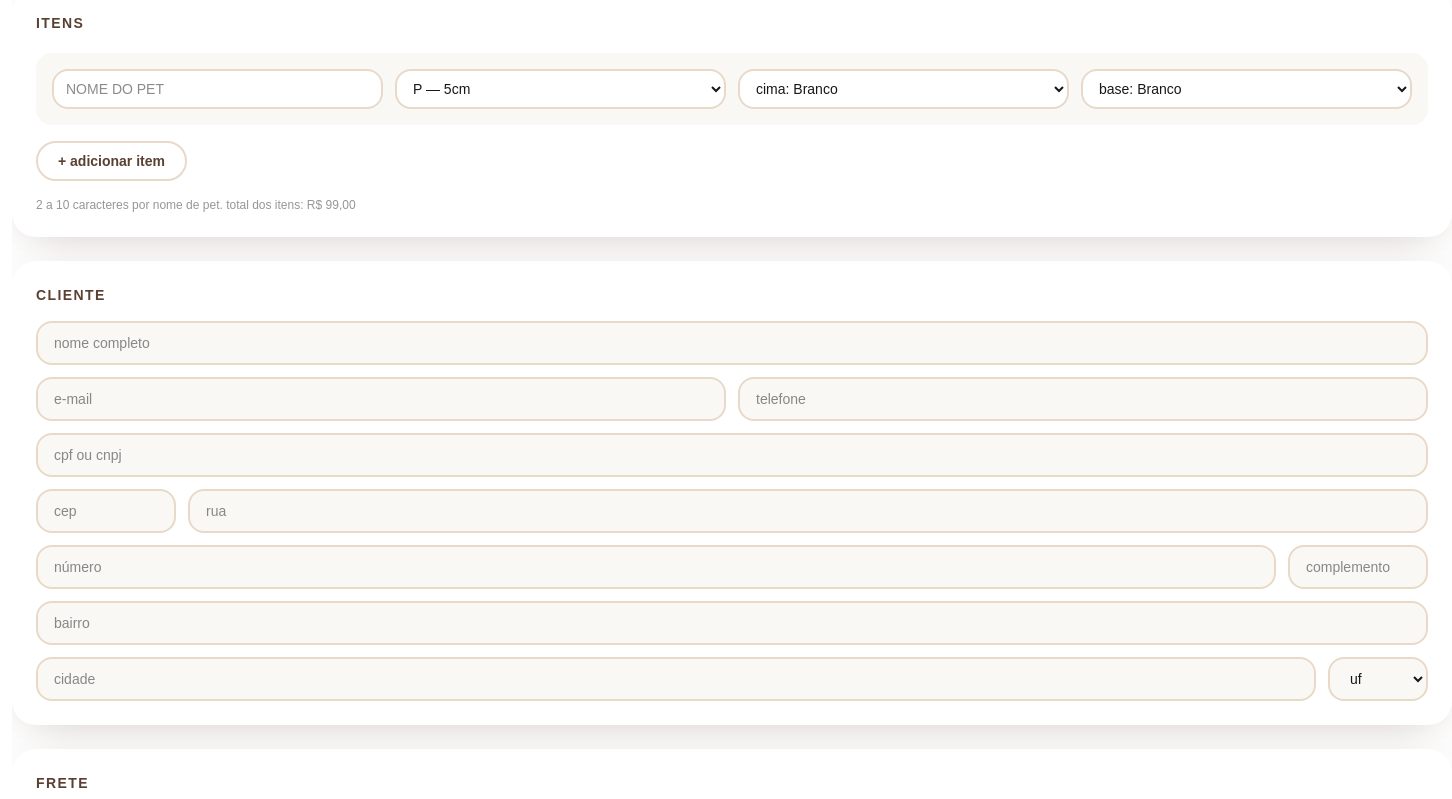
Test: NovoPedidoForm — submit › marcar como pago envia outcome=paid e mostra a confirmação
Type "thor" into the field with placeholder "nome do pet" at (218, 89), box [52, 69, 383, 109]
(page scrolled)
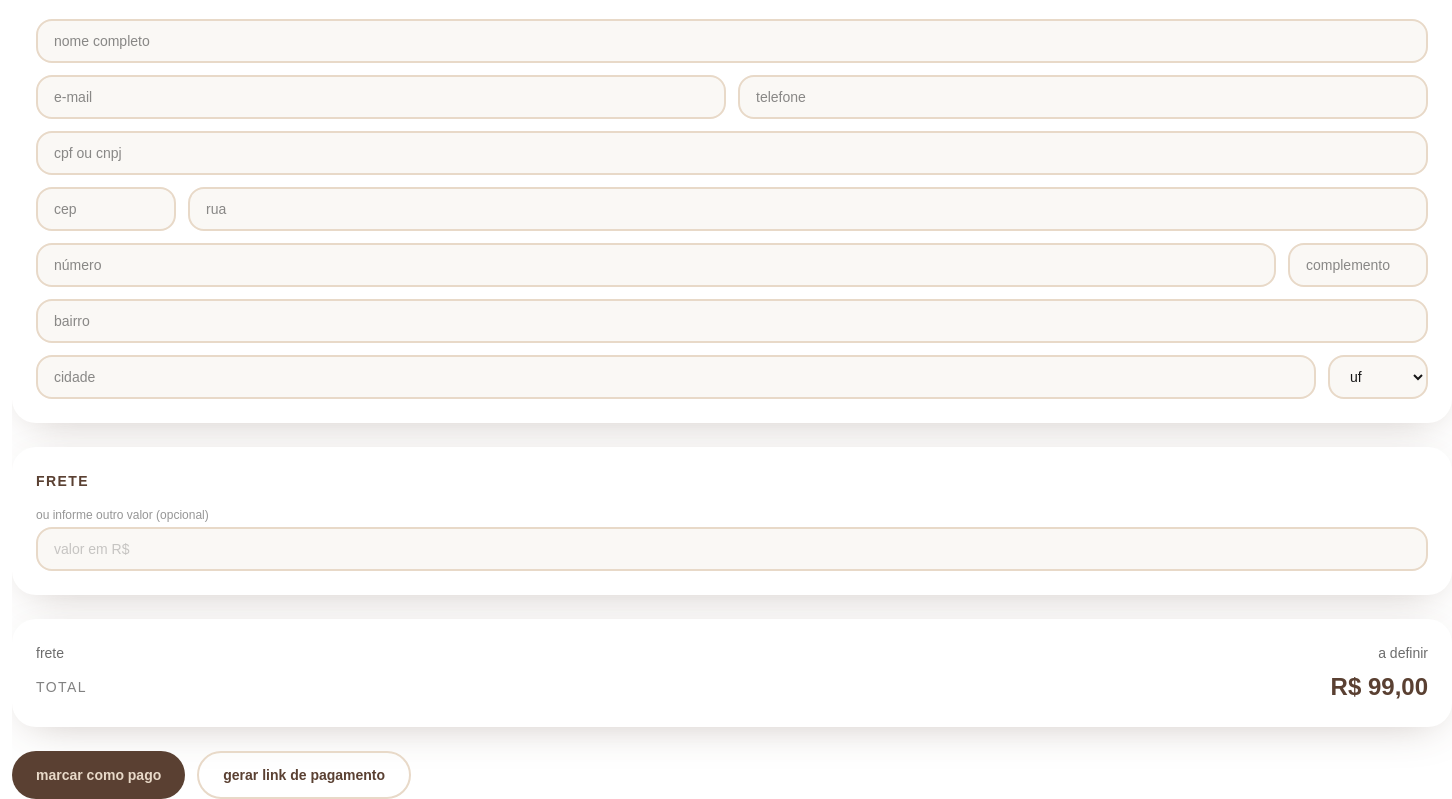
Click the button "marcar como pago" at (99, 775), box [12, 751, 185, 798]
(page scrolled)
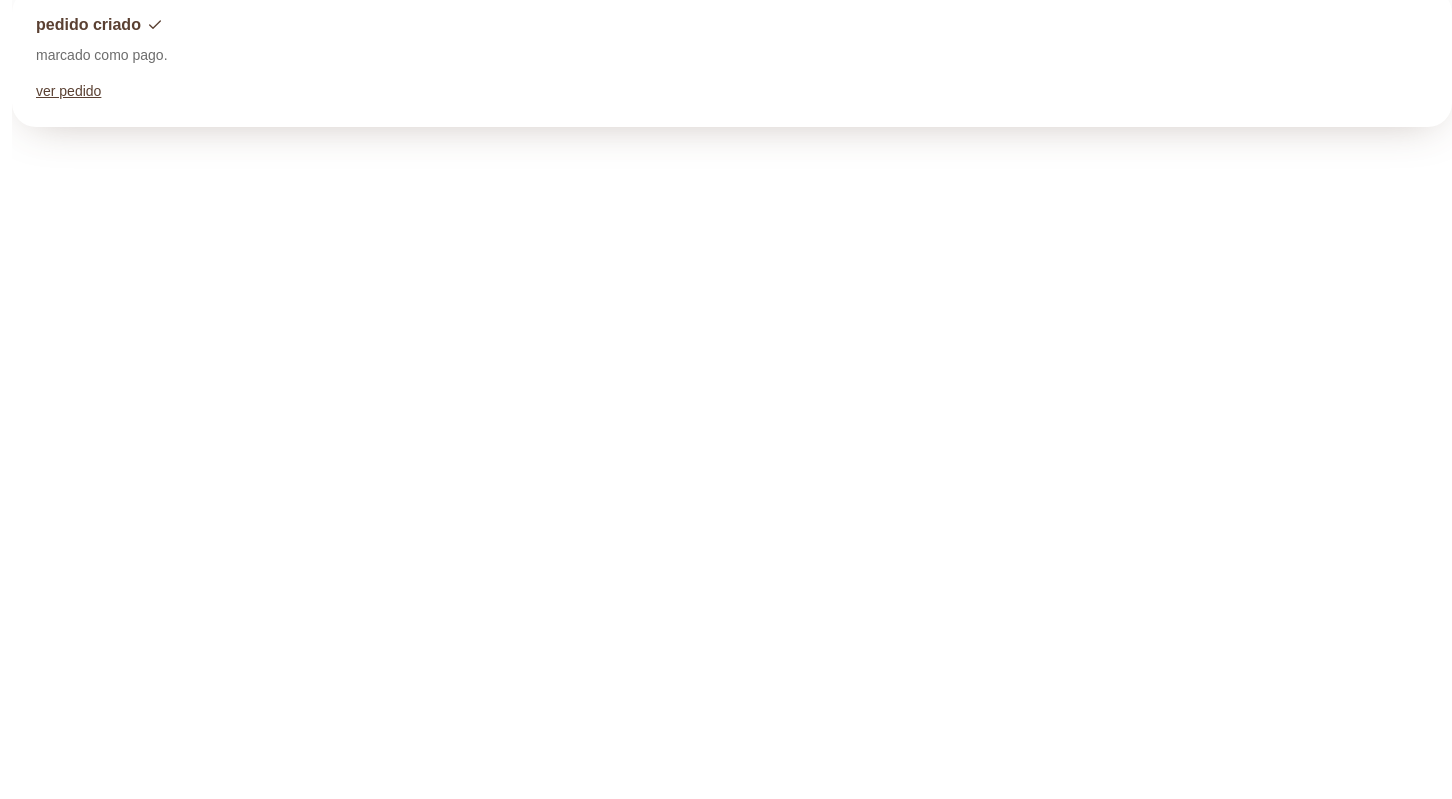
Expected: the text "pedido criado" is shown, [36, 16, 163, 33]
Expected: the text "marcado como pago." is shown, [36, 47, 168, 63]
